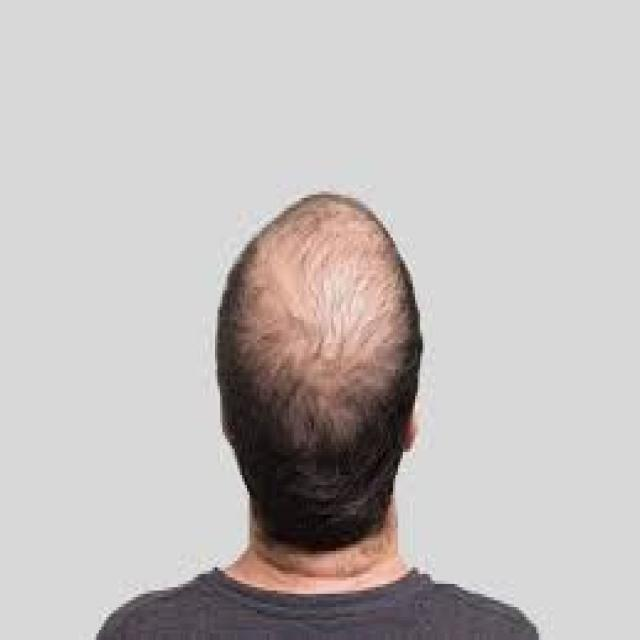Non_Helmet: (202, 167, 440, 553)
